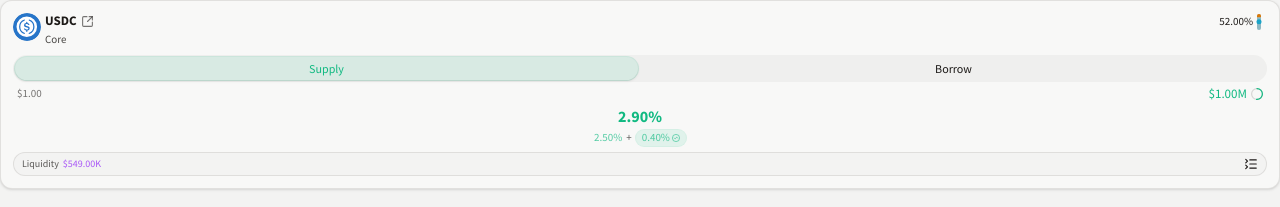
Test: MobileReserveCard › supplyCap/borrowCap 计算回归测试 (AAV-243) › renders borrow BorrowCapProgressRing when borrowCap produces a valid positive USD value
Click the button "Borrow" at (954, 68), box top-left (642, 57), bottom-right (1265, 80)
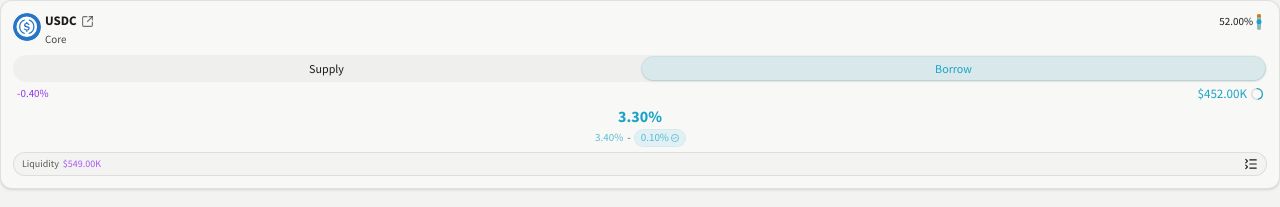
Expected: the icon in the row of "-0.40%" is shown, top-left (1251, 88), bottom-right (1263, 100)
Result: the button named "Show borrow cap details" is shown at top-left (1194, 86), bottom-right (1263, 102)
